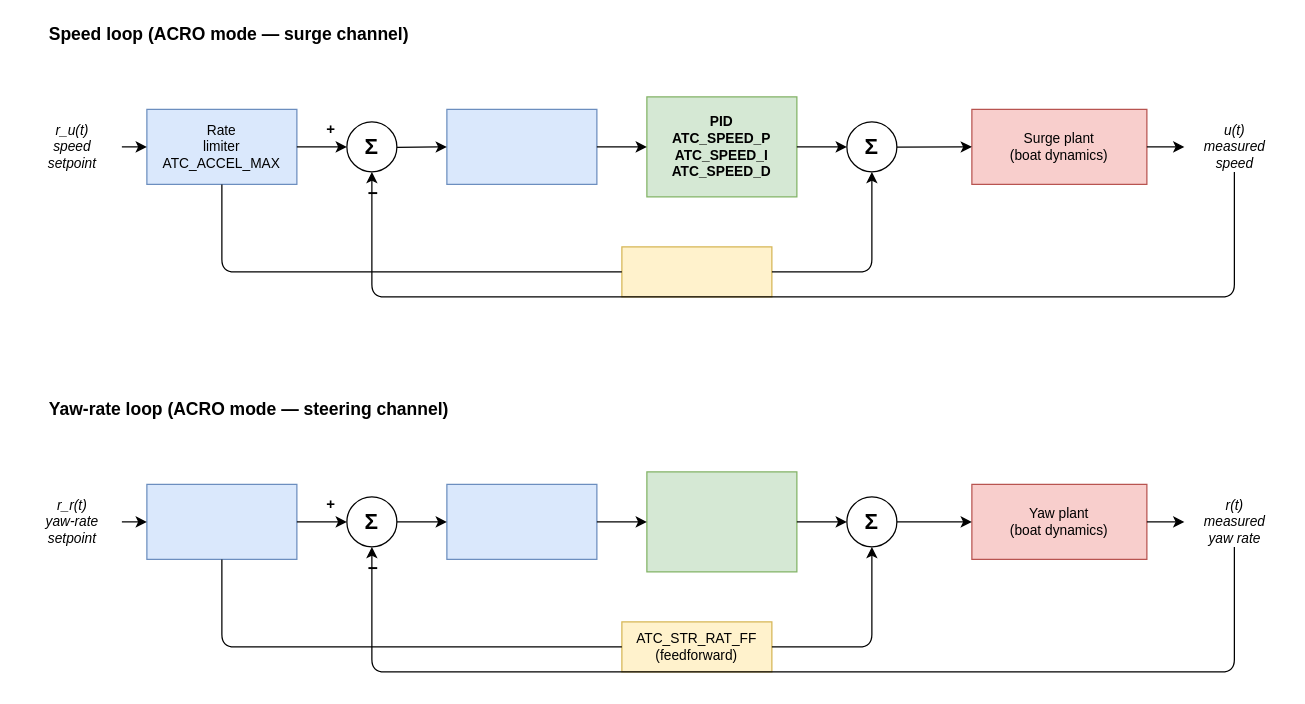
Image size: 1305x704. Some labels were removed from this diagram. Each missing label, with the centre of its shape:
"ATC_SPEED_FF (feedforward)" belongs at [696,271].
"LPF (error) ATC_SPEED_FLTE" belongs at [521,146].
"LPF (error) ATC_STR_RAT_FLTE" belongs at [521,521].
"PID ATC_STR_RAT_P ATC_STR_RAT_I ATC_STR_RAT_D" belongs at [721,521].
"Rate limiter ATC_STR_ACC_MAX" belongs at [221,521].
